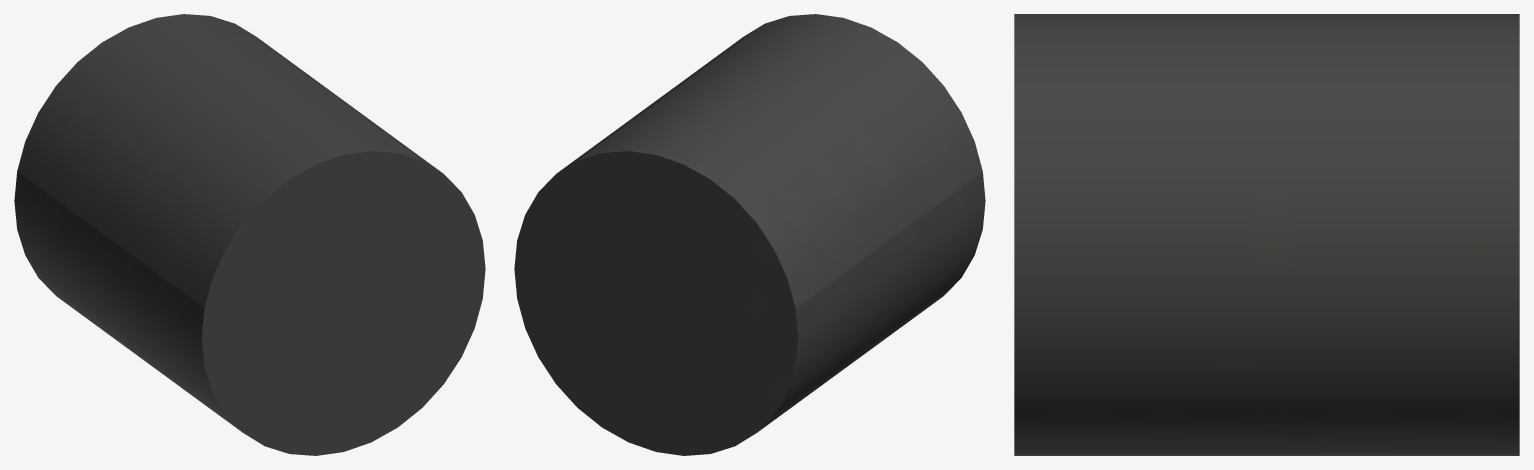
The model's file is front_left_caster__swivel_stem.glb.
3 views of the same model, side by side, from view 1: azimuth 30°, elevation 25°; view 2: azimuth 150°, elevation 25°; view 3: azimuth 270°, elevation 25° (orthographic). The views are drawn at different scales.
Visible parts, largest first — view 1: geometry_0; view 2: geometry_0; view 3: geometry_0.
Boxes of the visible parts, x1,y1,x2,y2 form: geometry_0: (14,14,485,455); geometry_0: (514,14,985,455); geometry_0: (1014,14,1519,455).
Size of the model in its own units: 0.028 by 0.028 by 0.032.
Materials: 1 (1 with a texture image).
